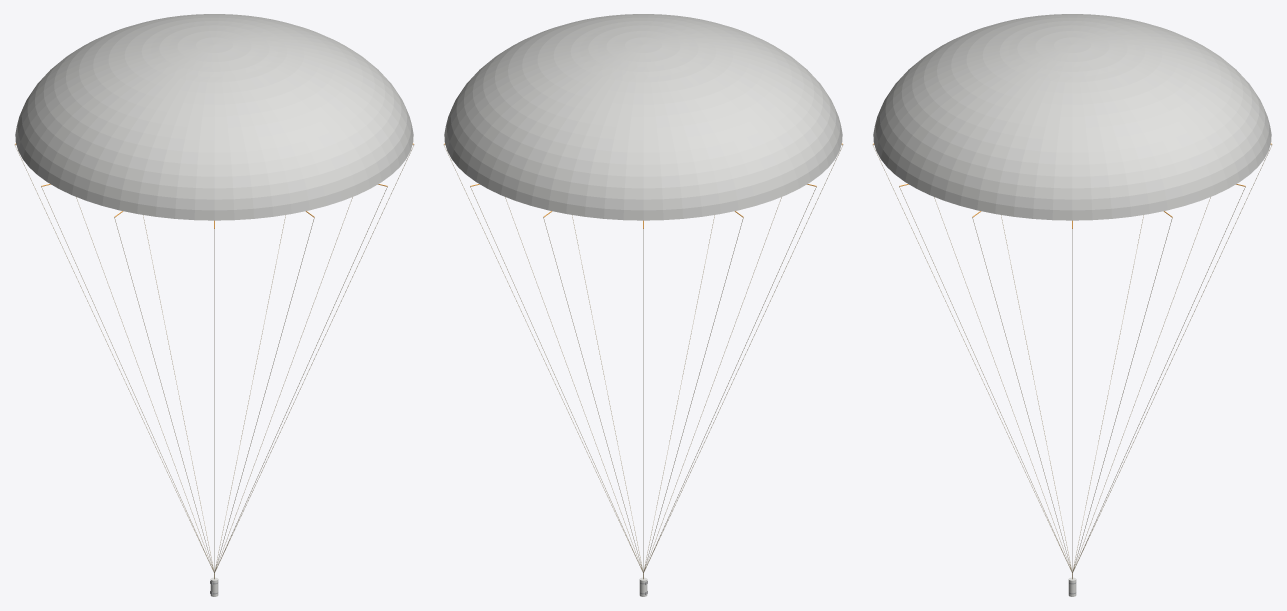
File: stage17_radial_recovery_chute_m_deployed.glb
3 renders of one model, left to right at view 1: azimuth 30°, elevation 25°; view 2: azimuth 150°, elevation 25°; view 3: azimuth 270°, elevation 25°, orthographic.
Visible parts, largest first — view 1: canopy, riser_lines; view 2: canopy, riser_lines; view 3: canopy, riser_lines.
Boxes of the visible parts, x1=… form: canopy: x1=15, y1=14, x2=413, y2=220; riser_lines: x1=14, y1=144, x2=414, y2=579; canopy: x1=444, y1=14, x2=842, y2=220; riser_lines: x1=443, y1=144, x2=843, y2=579; canopy: x1=873, y1=14, x2=1271, y2=220; riser_lines: x1=872, y1=144, x2=1272, y2=579.
Bounding box in the file's own units: 32.03 × 48.64 × 32.03.
